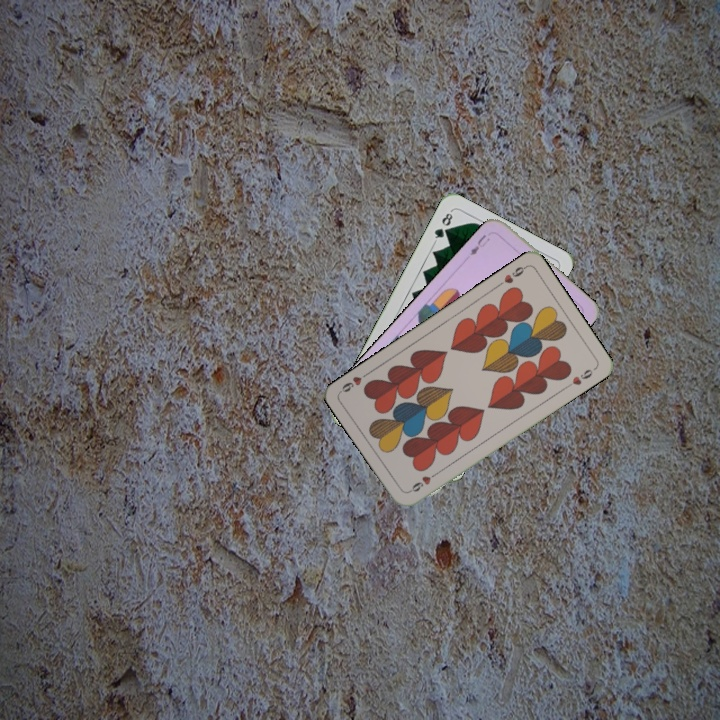EU: (466, 231, 492, 258)
G8: (430, 207, 455, 245)
H9: (493, 262, 529, 289), (405, 468, 441, 495)
